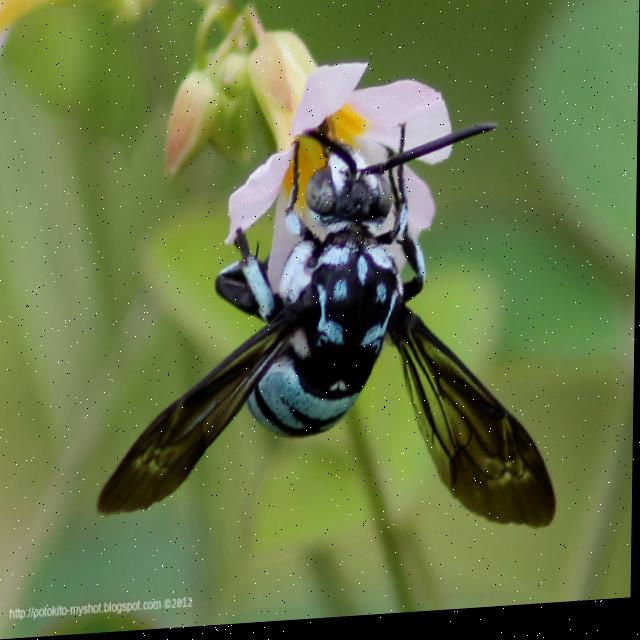Thyreus: (91, 108, 568, 569)
